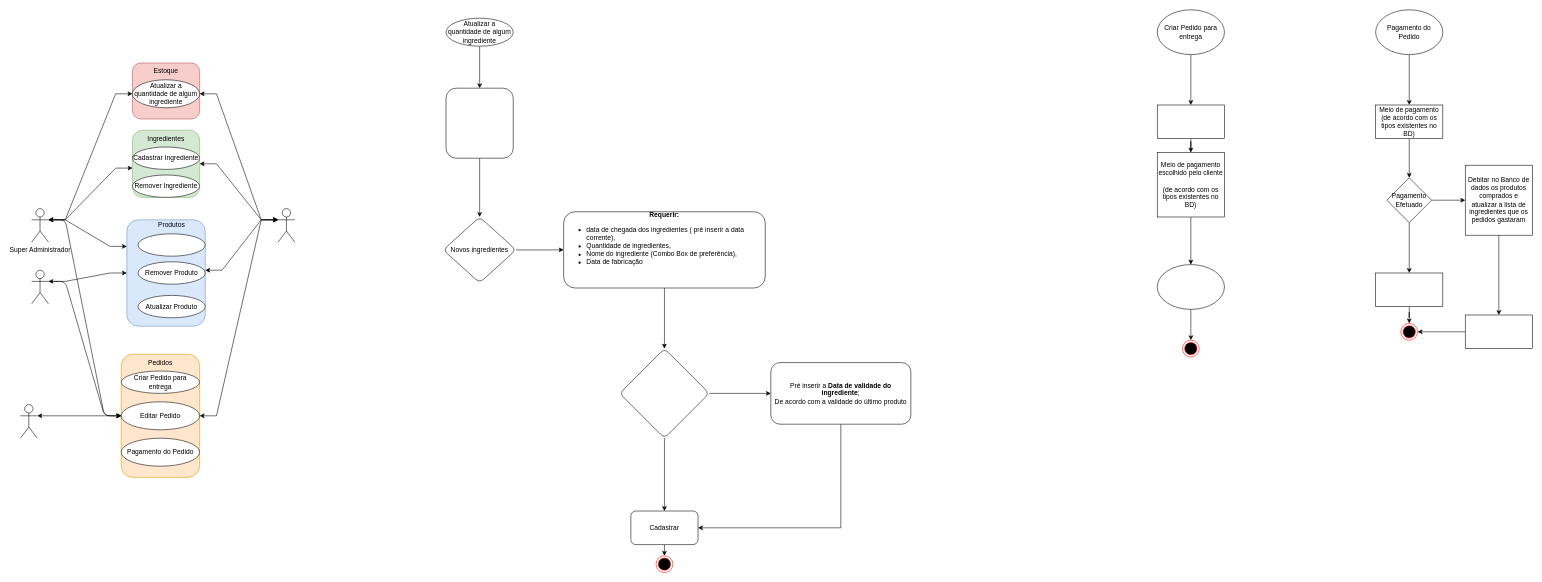
The diagram is 1542 pixels wide and 582 high, and some of its shapes have lost their labels. Each missing label, with the centre of its shape:
Atendente: point (28, 421)
Cadastrar Produto: point (171, 244)
Funcionário ADM: point (39, 287)
Informar os produtos a serem comprados: point (1190, 121)
Mensagem de "Que Pena que aconteceu isto ) - :": point (1409, 289)
Mensagem de Sucesso: "Compra efetuada!": point (1498, 331)
Pedir o tipo do motivo da mudança: "novos ingredientes", "Quantidade errada": point (479, 123)
Produto já cadastrado antes: point (664, 393)
Produtos pagos: point (1190, 286)
Sistema: point (286, 225)
